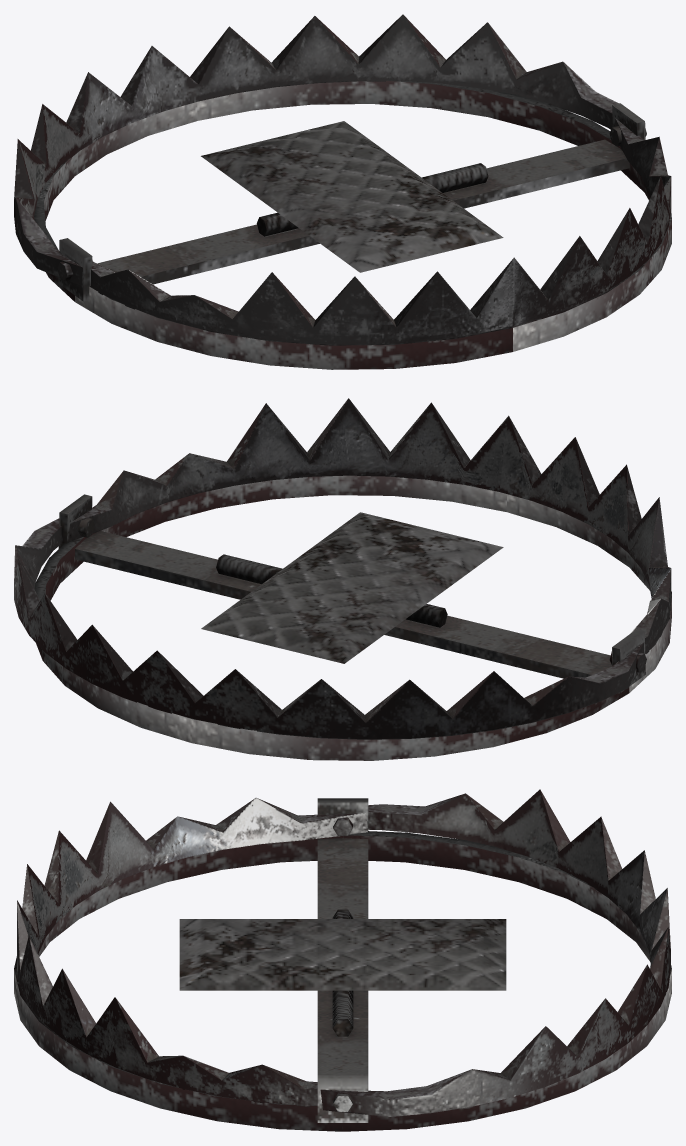
File: Trap.fbx
3 renders of one model, top to bottom at view 1: azimuth 30°, elevation 25°; view 2: azimuth 150°, elevation 25°; view 3: azimuth 270°, elevation 25°, orthographic. The views are drawn at different scales.
Parts seen in each view (by area): view 1: Frame, Arc_A, Arc_B; view 2: Frame, Arc_B, Arc_A; view 3: Frame, Arc_B, Arc_A.
Part boxes in pixels (x1,y1,x2,y2): Frame: (34, 80, 671, 369); Arc_A: (14, 14, 618, 286); Arc_B: (91, 118, 671, 344); Frame: (34, 475, 671, 760); Arc_B: (68, 398, 671, 653); Arc_A: (14, 518, 644, 739); Frame: (14, 798, 671, 1131); Arc_B: (17, 797, 367, 1106); Arc_A: (320, 789, 670, 1116).
Bounding box in the file's own units: 50.24 × 7.56 × 47.35.
